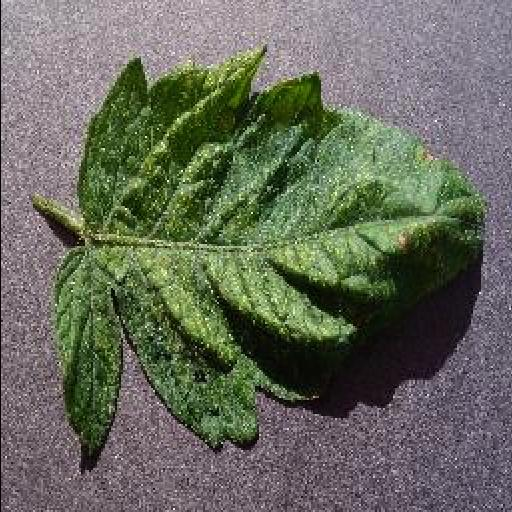disease_tomato: (52, 52, 482, 472)
